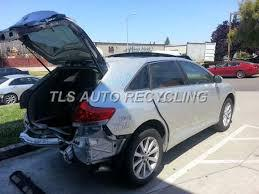rear-bumper-dent: (22, 123, 106, 158)
